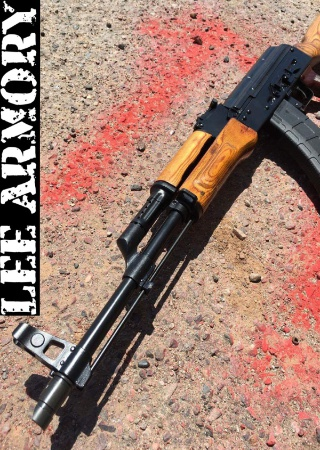rifle: (8, 25, 320, 436)
